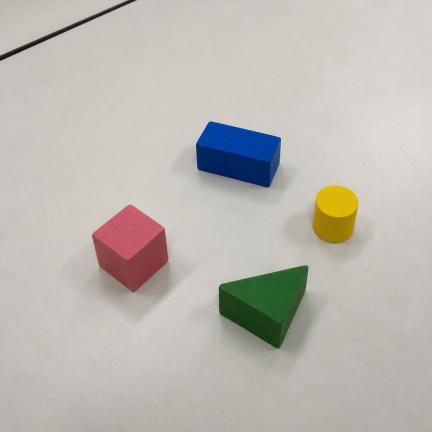BuildingBlocks: (219, 266, 308, 347), (93, 205, 168, 291), (197, 122, 280, 186), (313, 186, 358, 242)
